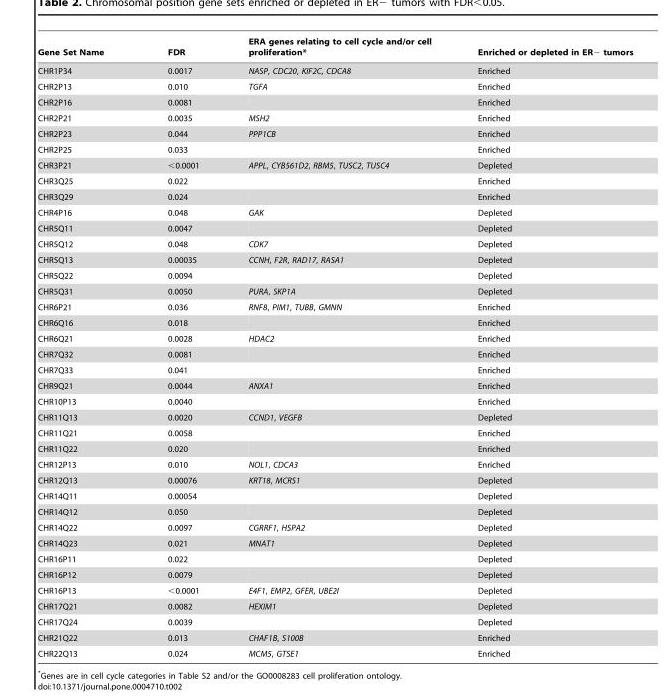table: (37, 36, 632, 657)
table column: (223, 36, 453, 657), (453, 36, 632, 657), (37, 36, 135, 657), (135, 36, 223, 657)
table column header: (37, 36, 632, 61)
table row: (37, 36, 632, 61), (37, 61, 632, 78), (37, 78, 632, 94), (37, 94, 632, 110), (37, 125, 632, 141), (37, 141, 632, 157), (37, 157, 632, 173), (37, 188, 632, 204), (37, 204, 632, 220), (37, 220, 632, 236), (37, 251, 632, 267), (37, 267, 632, 283), (37, 283, 632, 299), (37, 314, 632, 330), (37, 330, 632, 346), (37, 346, 632, 362), (37, 377, 632, 393), (37, 393, 632, 409), (37, 409, 632, 425), (37, 440, 632, 456), (37, 456, 632, 472), (37, 472, 632, 488), (37, 503, 632, 519), (37, 519, 632, 535), (37, 535, 632, 551), (37, 566, 632, 582), (37, 582, 632, 598), (37, 598, 632, 614), (37, 629, 632, 645), (37, 110, 632, 125), (37, 173, 632, 188), (37, 236, 632, 251), (37, 299, 632, 314), (37, 362, 632, 377), (37, 425, 632, 440), (37, 488, 632, 503), (37, 551, 632, 566), (37, 614, 632, 629), (37, 645, 632, 657)
